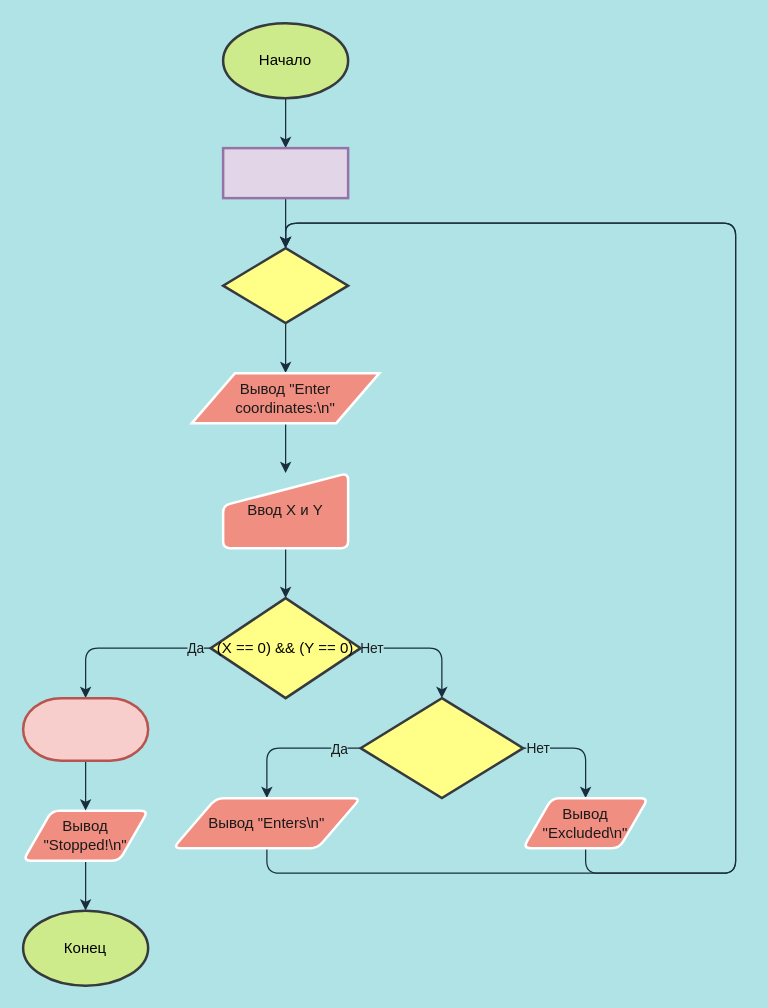
The diagram is 768 pixels wide and 1008 high, and some of its shapes have lost their labels. The box of each missing label's shape, as (x1, y1, x2, y2) in pixels:
(X >= 2) && (X <= 6) && (Y <= X): (359, 696, 524, 799)
break: (21, 696, 149, 761)
float X, Y: (221, 146, 349, 199)
true: (221, 246, 349, 324)
